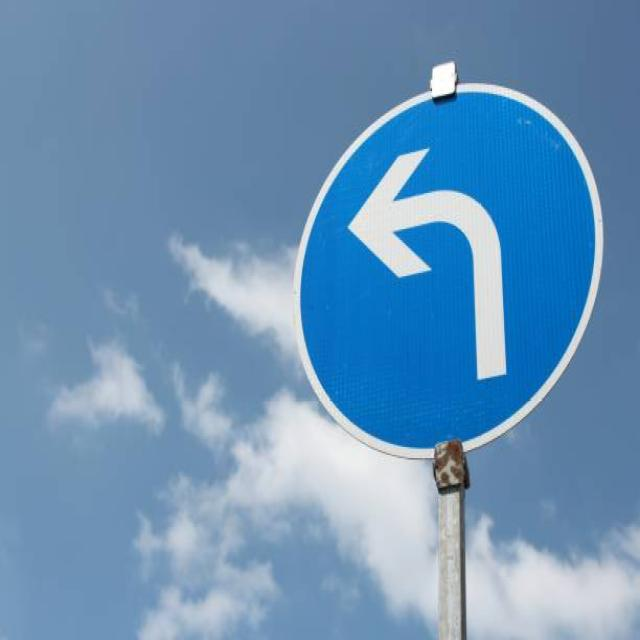LEFT: (295, 85, 602, 456)
